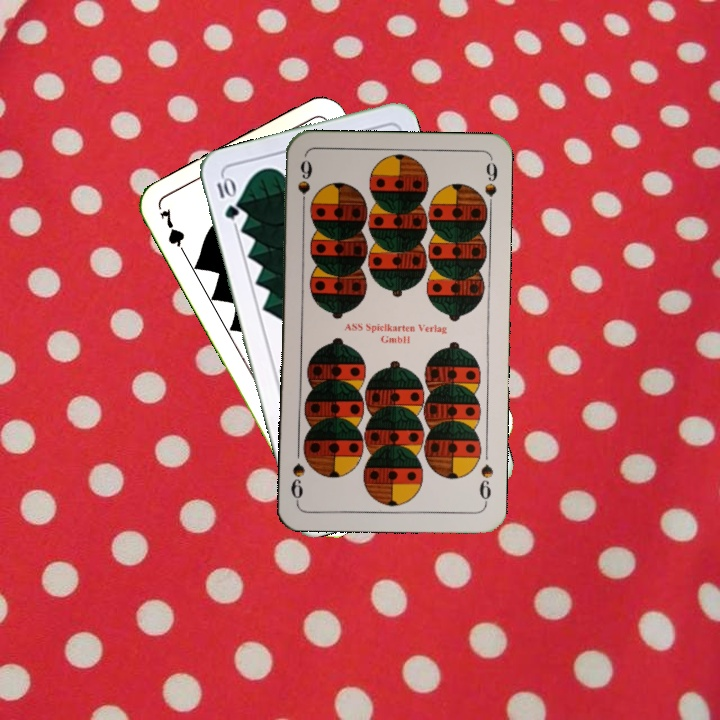G10: (212, 173, 242, 222)
G7: (155, 204, 191, 261)
S9: (293, 155, 315, 214), (475, 460, 495, 507)
